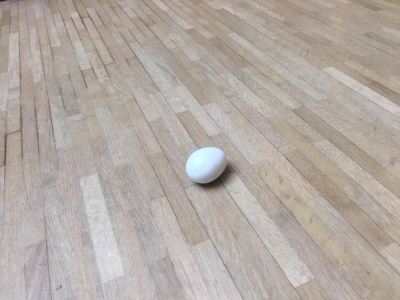egg: (184, 145, 228, 184)
